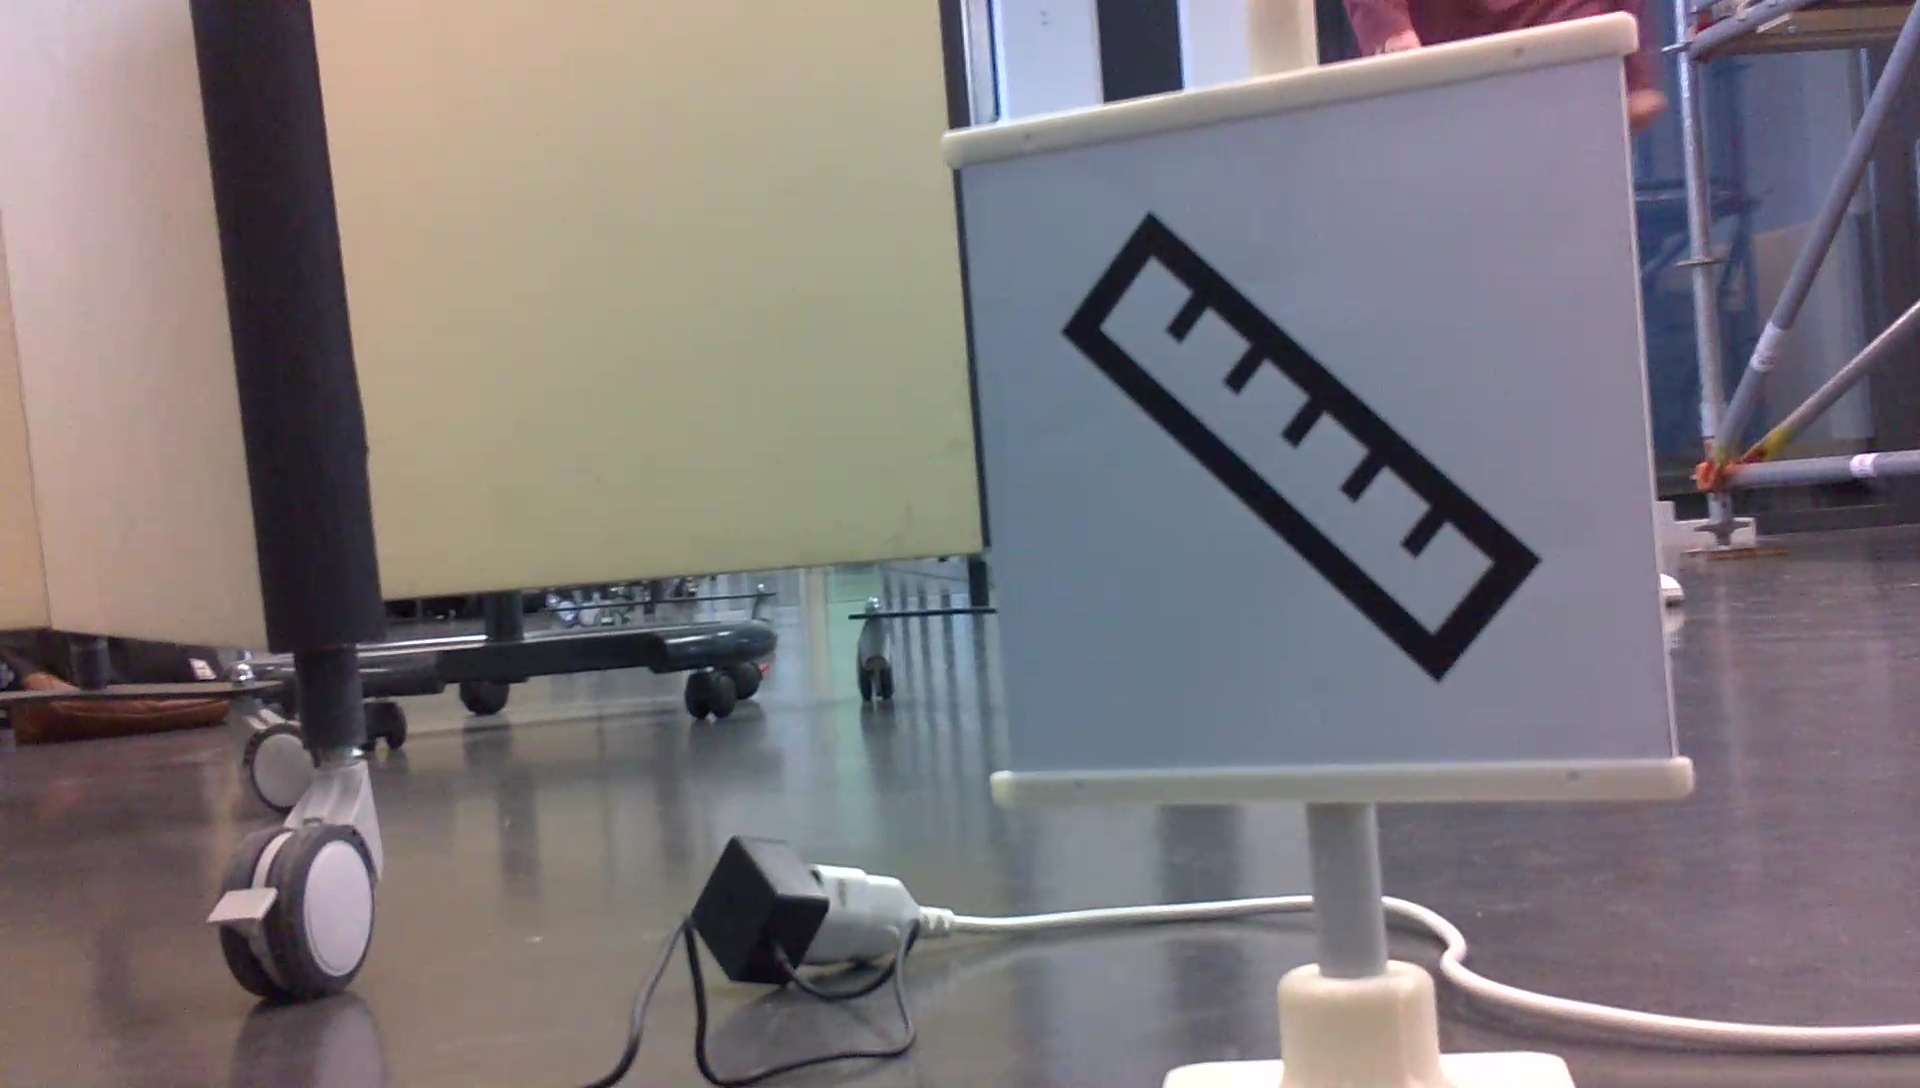ruler: (1046, 210, 1543, 692)
